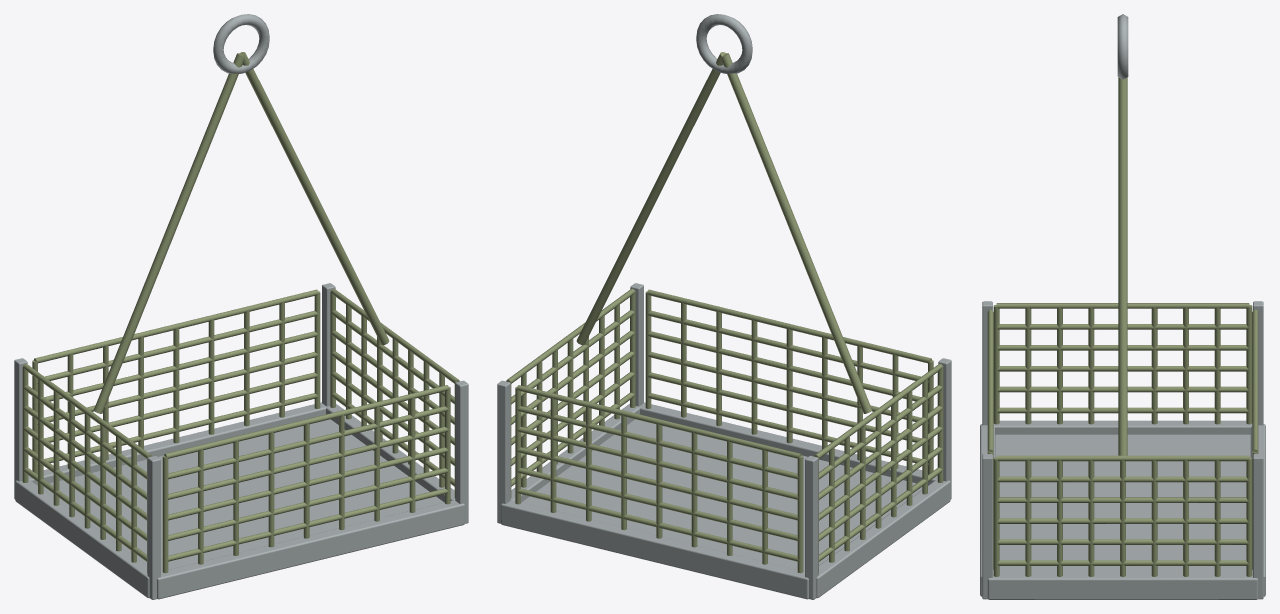
Rendered from flooded-and-coastal-survival-oyster-hanging-basket-405110db__20077.glb.
3 views of the same model, side by side, from view 1: azimuth 30°, elevation 25°; view 2: azimuth 150°, elevation 25°; view 3: azimuth 270°, elevation 25° (orthographic).
Visible parts, largest first — view 1: oyster-hanging-basket; view 2: oyster-hanging-basket; view 3: oyster-hanging-basket.
Boxes of the visible parts, x1=… form: oyster-hanging-basket: x1=14, y1=14, x2=468, y2=599; oyster-hanging-basket: x1=497, y1=14, x2=951, y2=599; oyster-hanging-basket: x1=980, y1=14, x2=1265, y2=599.
Size of the model in its own units: 0.6249 by 0.925 by 0.475.
